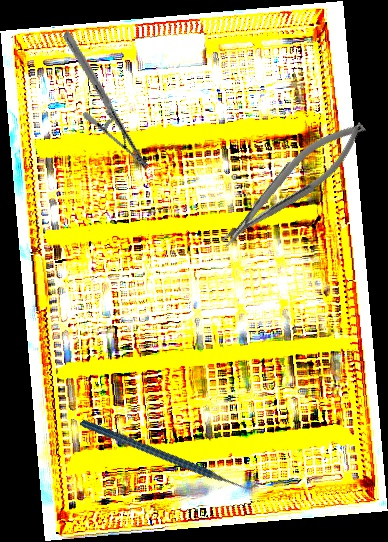Chopper: (79, 367, 263, 540)
Needle Holder: (207, 111, 377, 255), (25, 30, 187, 171)
